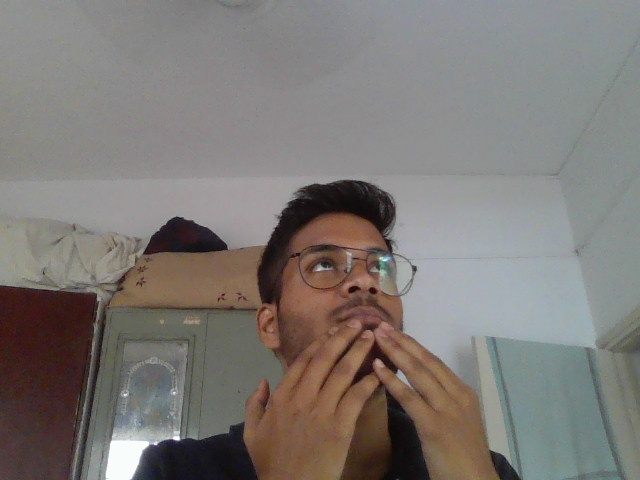thankyou: (233, 309, 506, 480)
